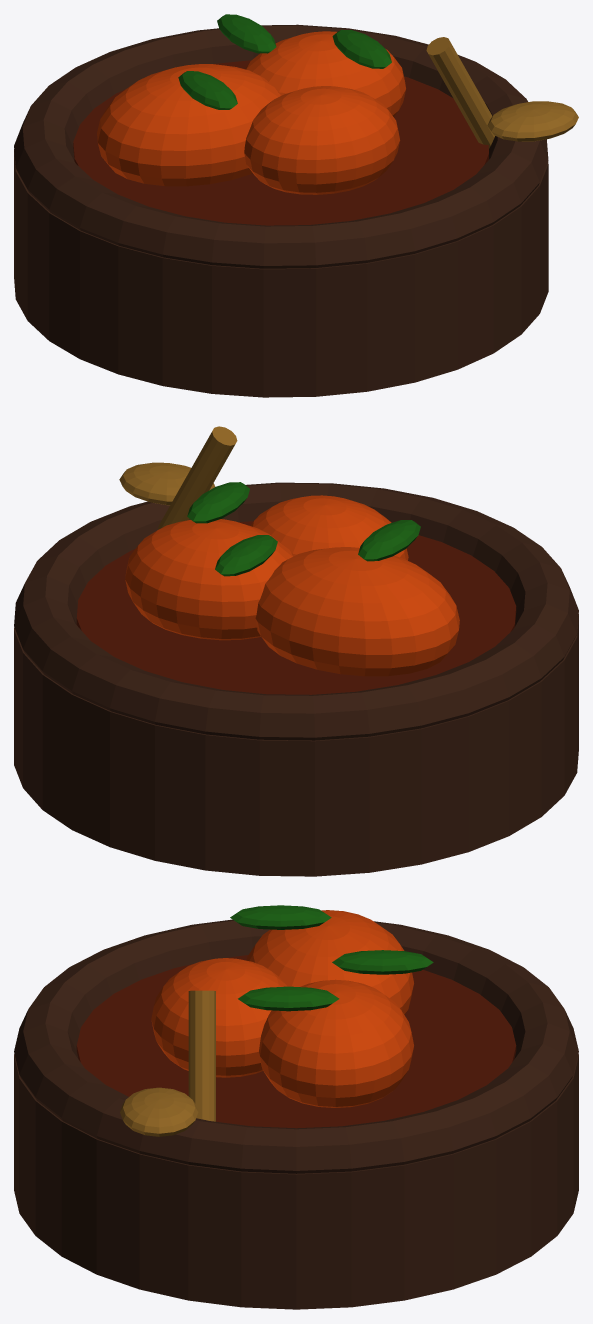
File: curry.obj
The picture shows the model from 3 angles, top to bottom: view 1: azimuth 30°, elevation 25°; view 2: azimuth 150°, elevation 25°; view 3: azimuth 270°, elevation 25°; orthographic projection. The views are drawn at different scales.
Parts seen in each view (by area): view 1: bowl, rim, interior, pieceA, pieceC, pieceB, spoon_bowl, spoon_handle, leaf.002, leaf, leaf.001; view 2: bowl, rim, interior, pieceA, pieceB, pieceC, spoon_handle, spoon_bowl, leaf, leaf.002, leaf.001; view 3: bowl, rim, interior, pieceB, pieceC, pieceA, spoon_handle, spoon_bowl, leaf.001, leaf.002, leaf.
Part boxes in pixels (x1,y1,x2,y2): bowl: (14,149,548,397); rim: (14,24,548,268); interior: (73,60,488,225); pieceA: (97,64,280,186); pieceC: (244,86,400,194); pieceB: (245,31,405,116); spoon_bowl: (487,101,578,141); spoon_handle: (426,37,494,148); leaf.002: (217,14,276,53); leaf: (178,71,237,109); leaf.001: (332,29,391,68); bowl: (14,614,578,876); rim: (14,482,578,740); interior: (76,521,516,694); pieceA: (255,547,459,676); pieceB: (125,519,293,640); pieceC: (250,495,408,560); spoon_handle: (158,426,237,529); spoon_bowl: (119,462,215,505); leaf: (358,520,420,561); leaf.002: (215,535,277,576); leaf.001: (187,482,249,523); bowl: (14,1054,578,1309); rim: (14,919,578,1173); interior: (76,955,516,1128); pieceB: (259,979,413,1107); pieceC: (151,958,287,1077); pieceA: (246,910,413,1014); spoon_handle: (188,990,215,1121); spoon_bowl: (120,1087,198,1136); leaf.001: (238,986,339,1011); leaf.002: (332,950,433,974); leaf: (230,905,331,929).
Size of the model in its own units: 1.44 by 0.739 by 1.44.
